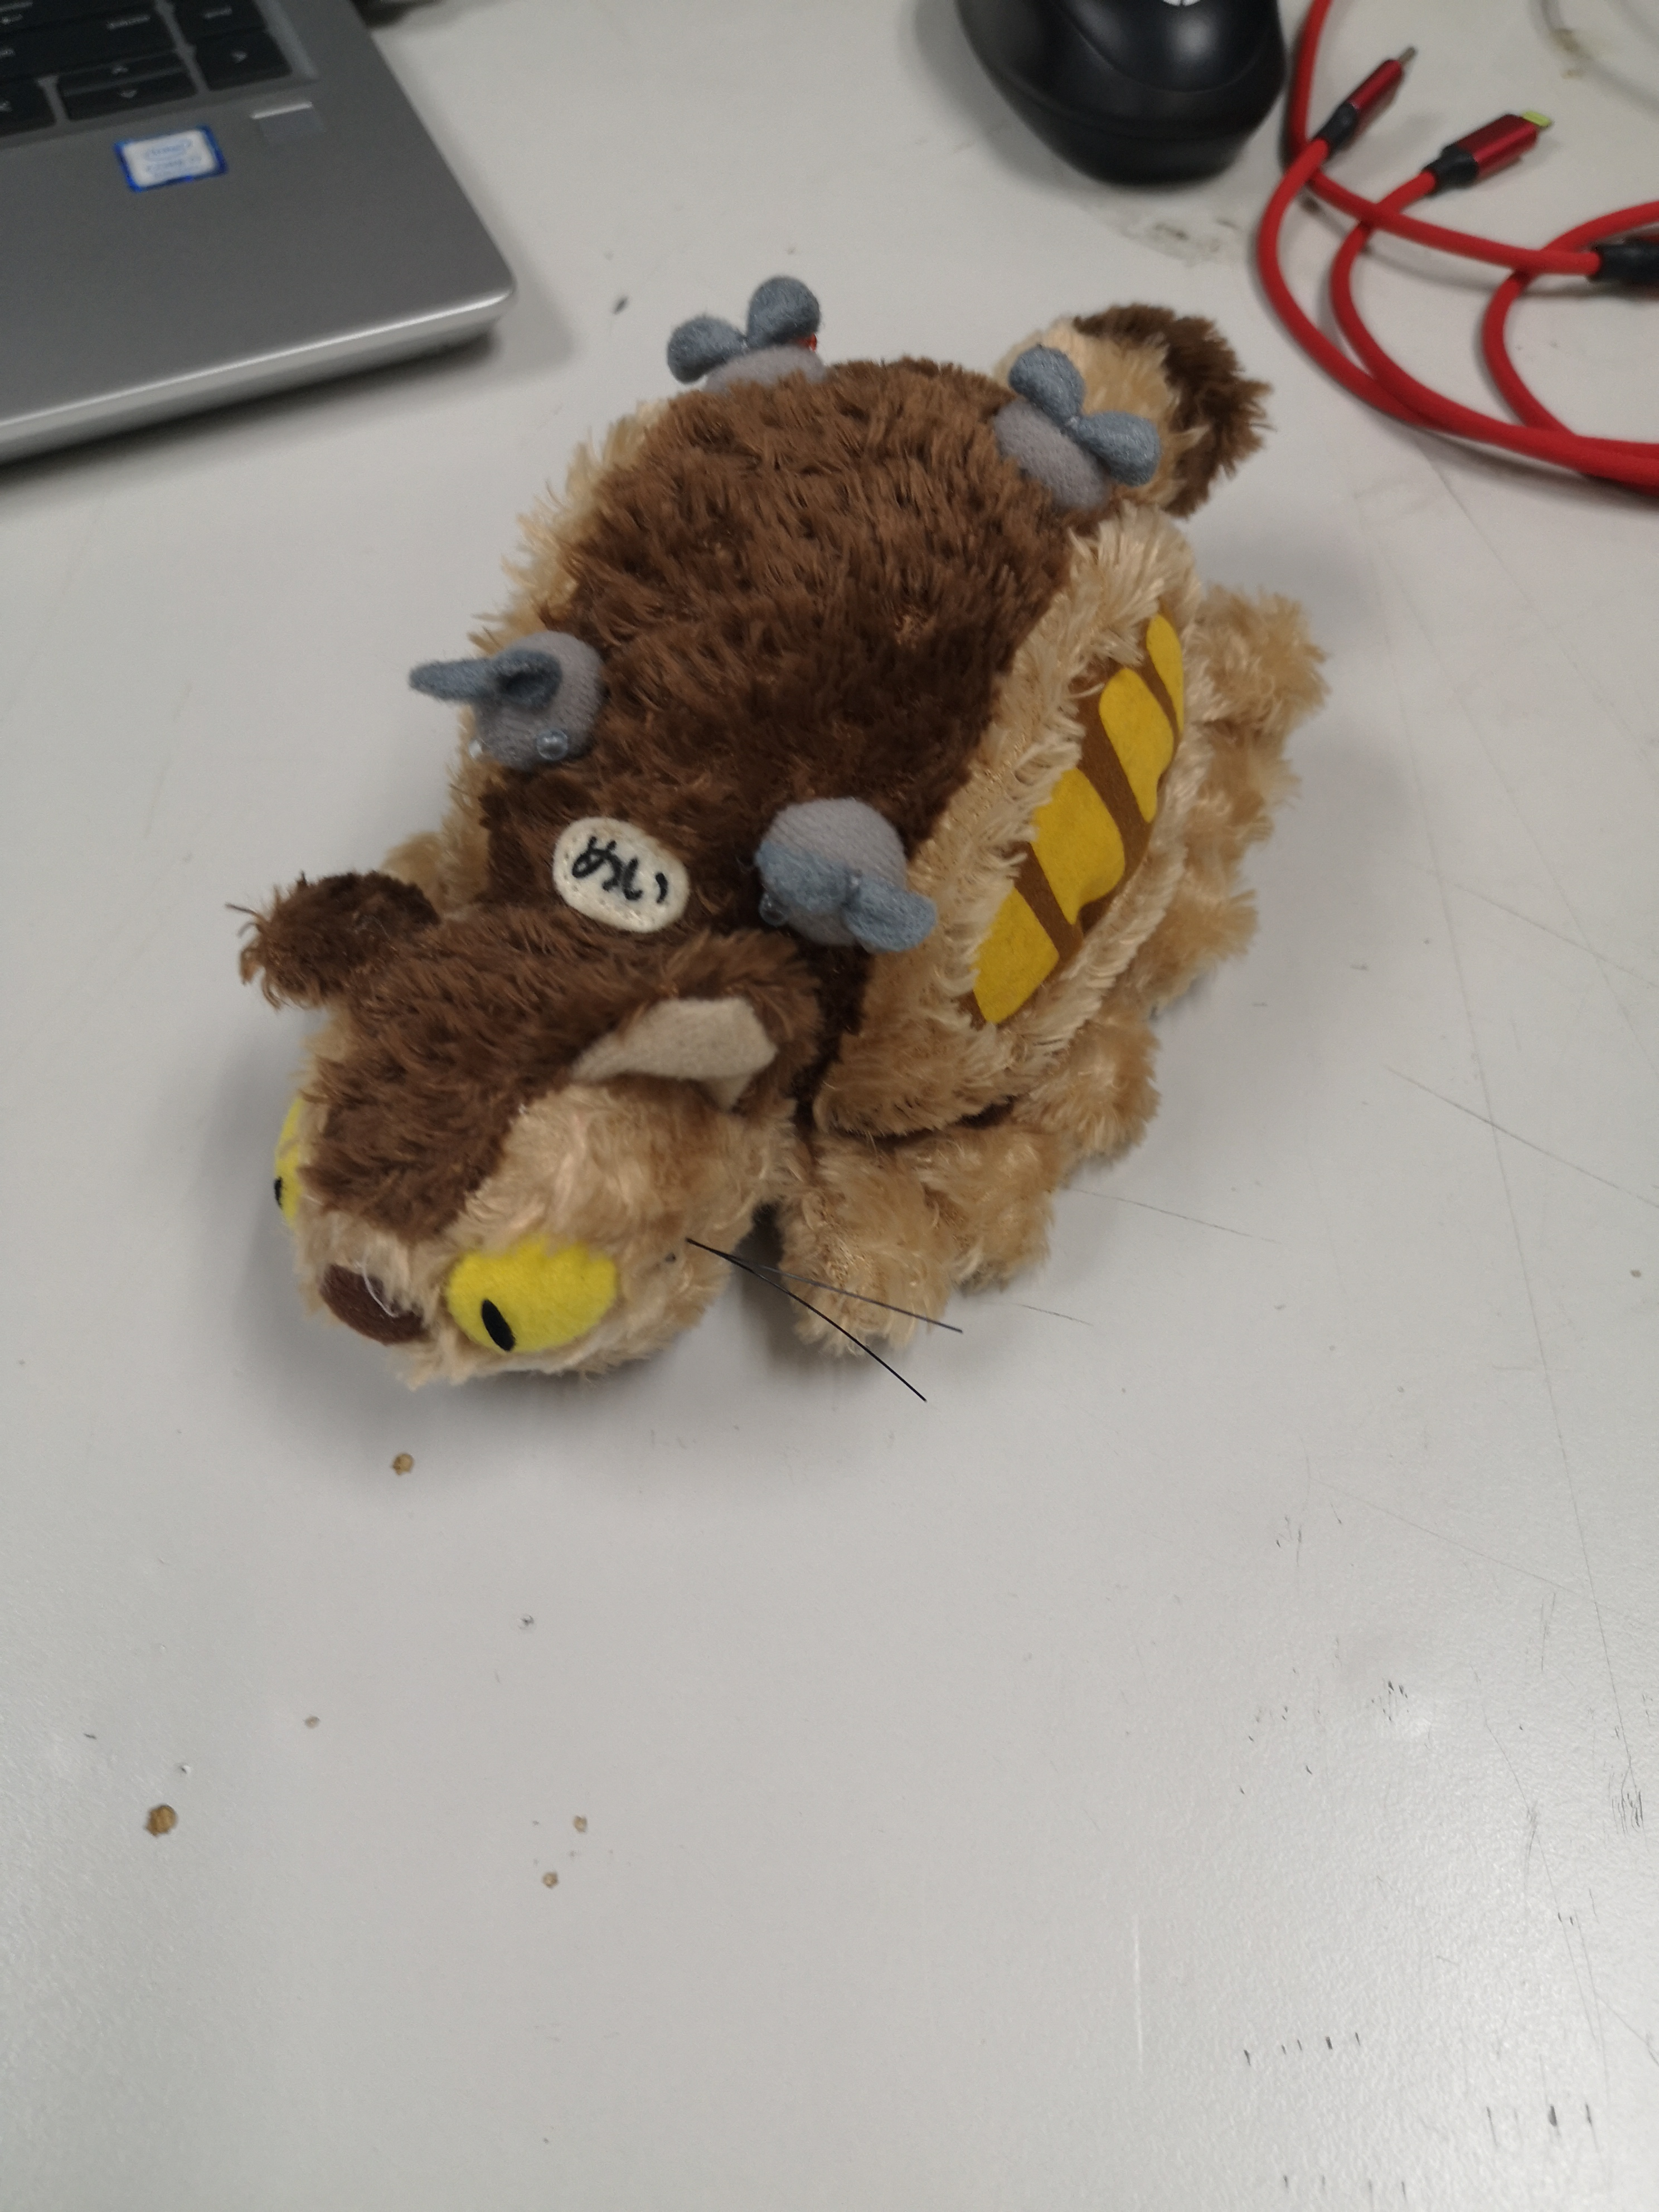nekobus: (213, 263, 1340, 1428)
